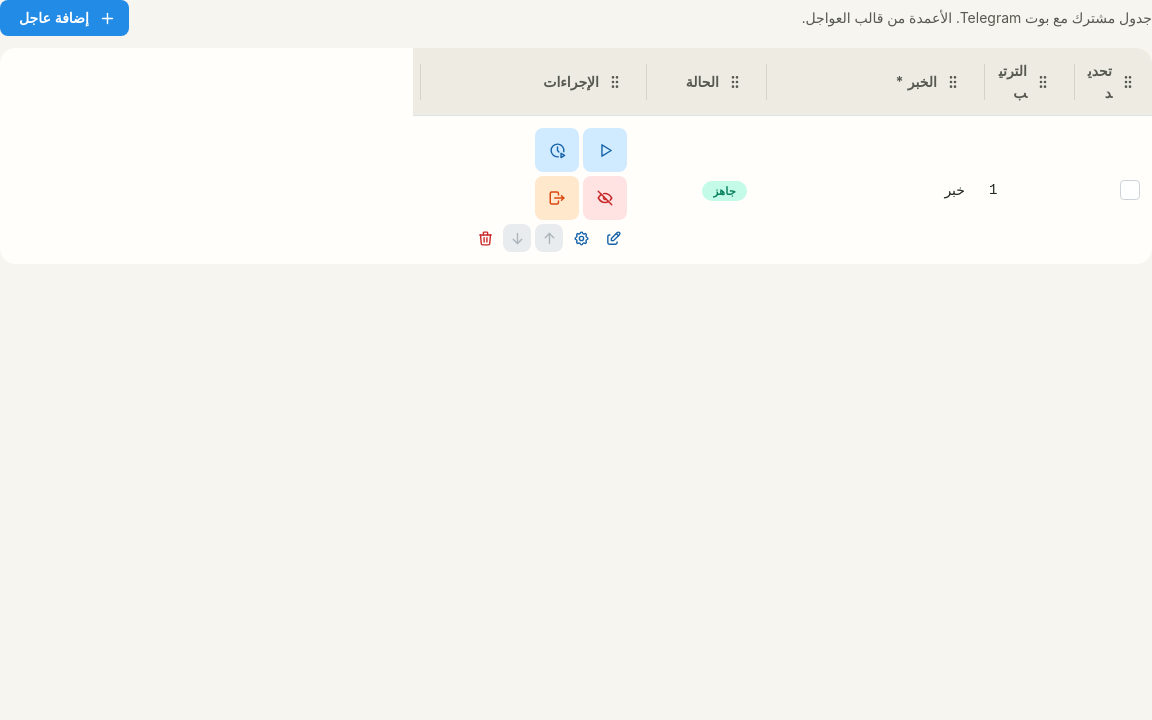
it: reviews urgent removal without a manual token when Cinegy reports Bulletin
This screenshot has width=1152, height=720.
Expected: the button named "خروج المعروض (EXIT)" is enabled, 535,176 -> 579,220
What coordinates should you click on to do the following:
click the button named "إخفاء العاجل المعروض"
I would click on:
 (605, 198)
Its box is 583,176 -> 627,220.
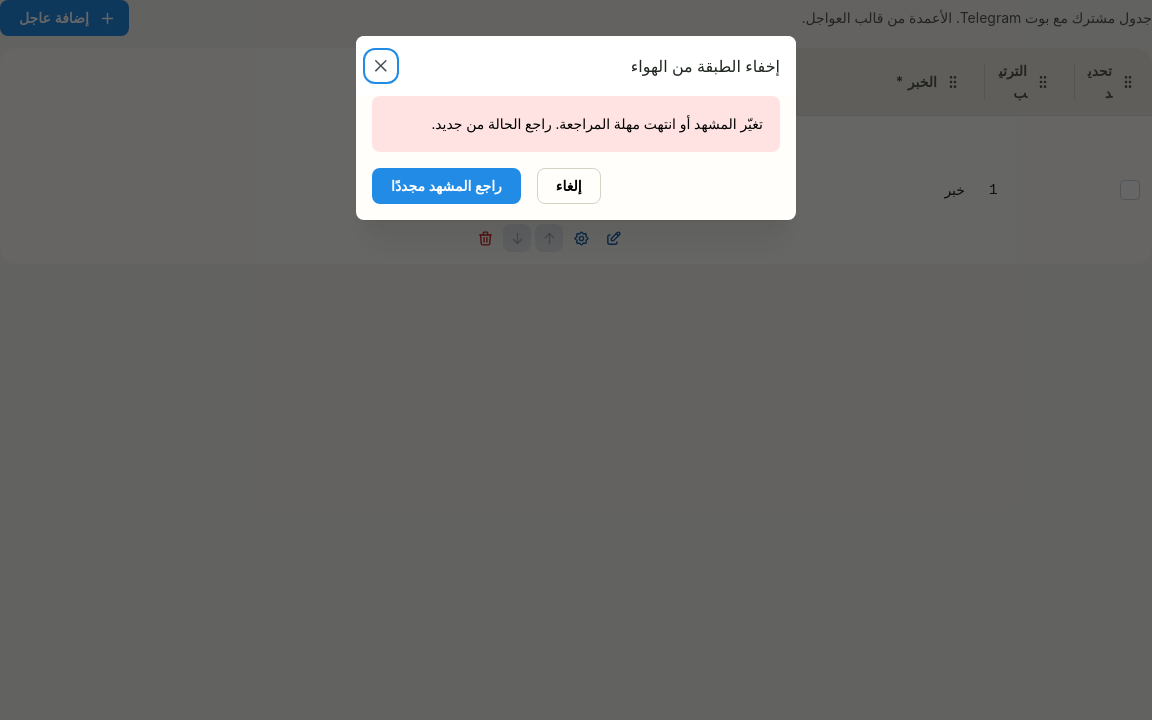
Result: the message shows "تغيّر المشهد" at 431,115 -> 763,132
